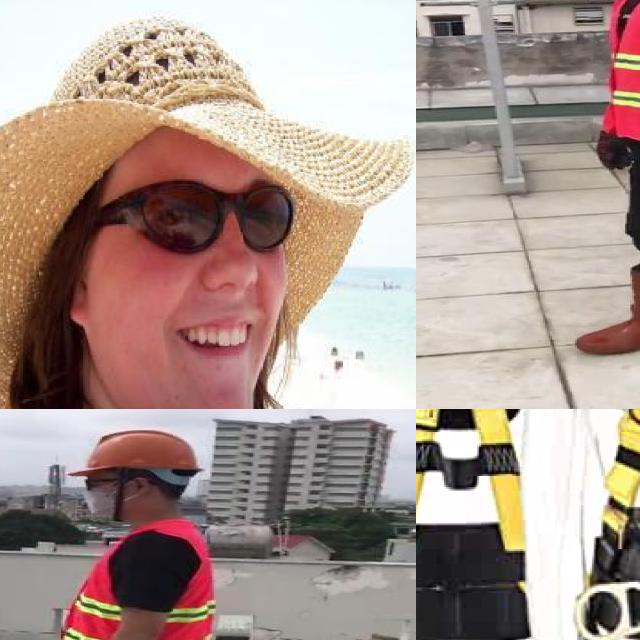Harness: (416, 409, 571, 640), (578, 409, 640, 640)
boots: (573, 268, 640, 355)
face_mask: (72, 471, 130, 522)
face_nomask: (124, 172, 295, 370)
glasses: (91, 179, 296, 254)
head_helmet: (66, 428, 200, 481)
head_nohelmet: (23, 3, 298, 164)
person: (0, 15, 416, 409), (29, 424, 235, 640), (563, 0, 640, 362)
vest: (50, 522, 215, 640), (602, 0, 640, 138)
